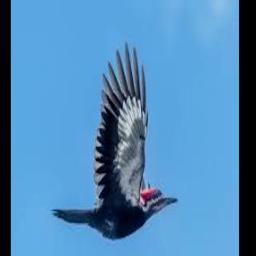Woodpecker: (51, 41, 178, 239)
